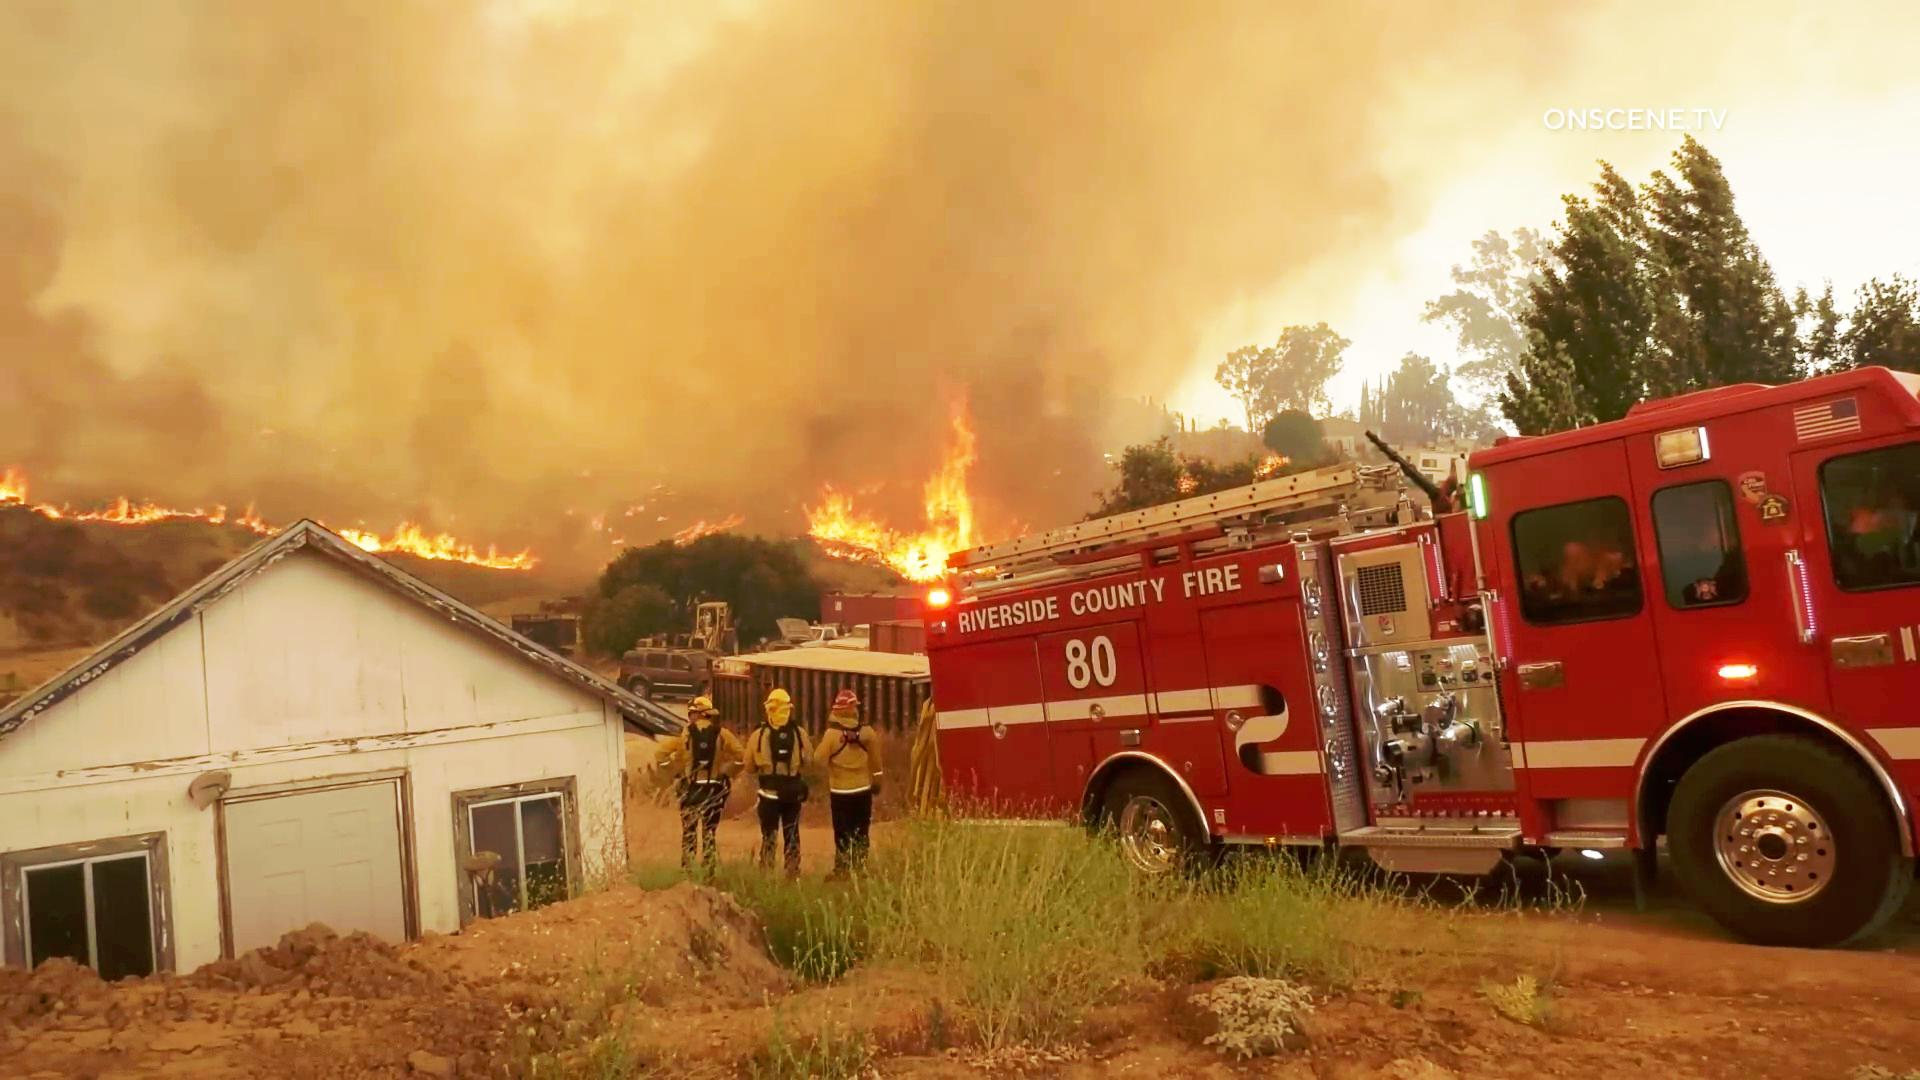fire: (798, 396, 1069, 596), (16, 451, 291, 541), (335, 498, 582, 595)
